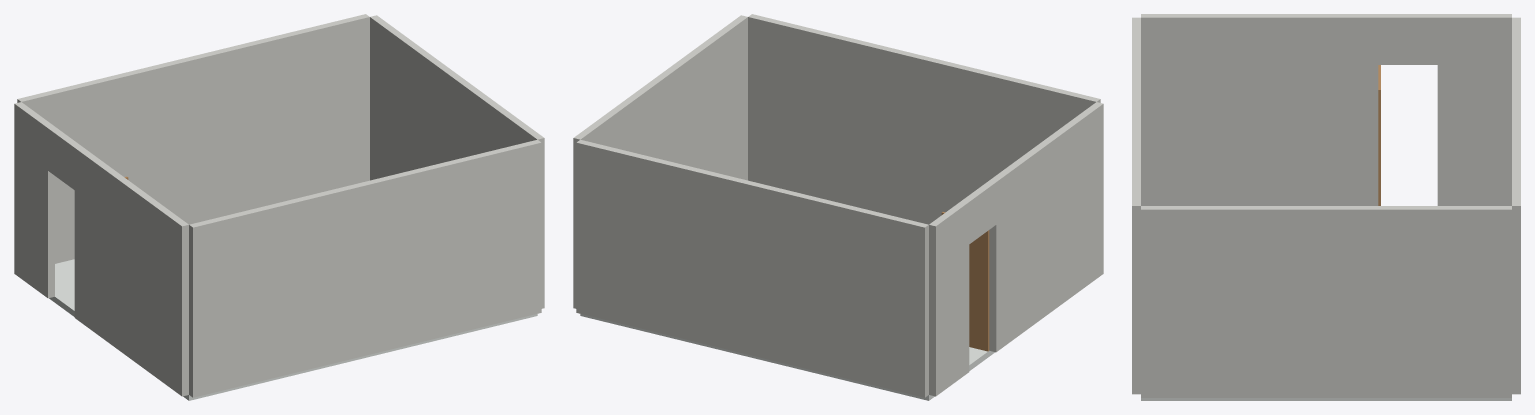
The picture shows the model from 3 angles, left to right: view 1: azimuth 30°, elevation 25°; view 2: azimuth 150°, elevation 25°; view 3: azimuth 270°, elevation 25°; orthographic projection. The views are drawn at different scales.
Parts seen in each view (by area): view 1: room:north:full, room:south:full, room:west:high, room:east:full, room:west:low, room:floor, room:west:lintel; view 2: room:south:full, room:north:full, room:west:high, room:east:full, room:west:low, door:leaf, room:west:lintel, room:floor; view 3: room:east:full, room:west:high, room:west:low, room:south:full, room:north:full, room:west:lintel, room:floor, door:leaf.
Part boxes in pixels (x1=…): room:north:full: x1=189, y1=139, x2=541, y2=397; room:south:full: x1=17, y1=14, x2=369, y2=263; room:west:high: x1=74, y1=146, x2=188, y2=396; room:east:full: x1=370, y1=15, x2=544, y2=308; room:west:low: x1=14, y1=102, x2=54, y2=298; room:floor: x1=49, y1=259, x2=537, y2=400; room:west:lintel: x1=48, y1=126, x2=81, y2=189; room:south:full: x1=576, y1=139, x2=928, y2=397; room:north:full: x1=748, y1=14, x2=1100, y2=224; room:west:high: x1=989, y1=102, x2=1103, y2=352; room:east:full: x1=573, y1=15, x2=747, y2=308; room:west:low: x1=929, y1=200, x2=969, y2=396; door:leaf: x1=941, y1=212, x2=989, y2=351; room:west:lintel: x1=962, y1=180, x2=996, y2=243; room:floor: x1=580, y1=314, x2=994, y2=400; room:east:full: x1=1141, y1=206, x2=1511, y2=397; room:west:high: x1=1141, y1=14, x2=1378, y2=205; room:west:low: x1=1437, y1=14, x2=1511, y2=205; room:south:full: x1=1512, y1=17, x2=1520, y2=394; room:north:full: x1=1132, y1=17, x2=1140, y2=394; room:west:lintel: x1=1378, y1=14, x2=1437, y2=64; room:floor: x1=1141, y1=398, x2=1511, y2=400; door:leaf: x1=1378, y1=65, x2=1380, y2=205.
Size of the model in its own units: 6.24 by 2.9 by 5.24.
